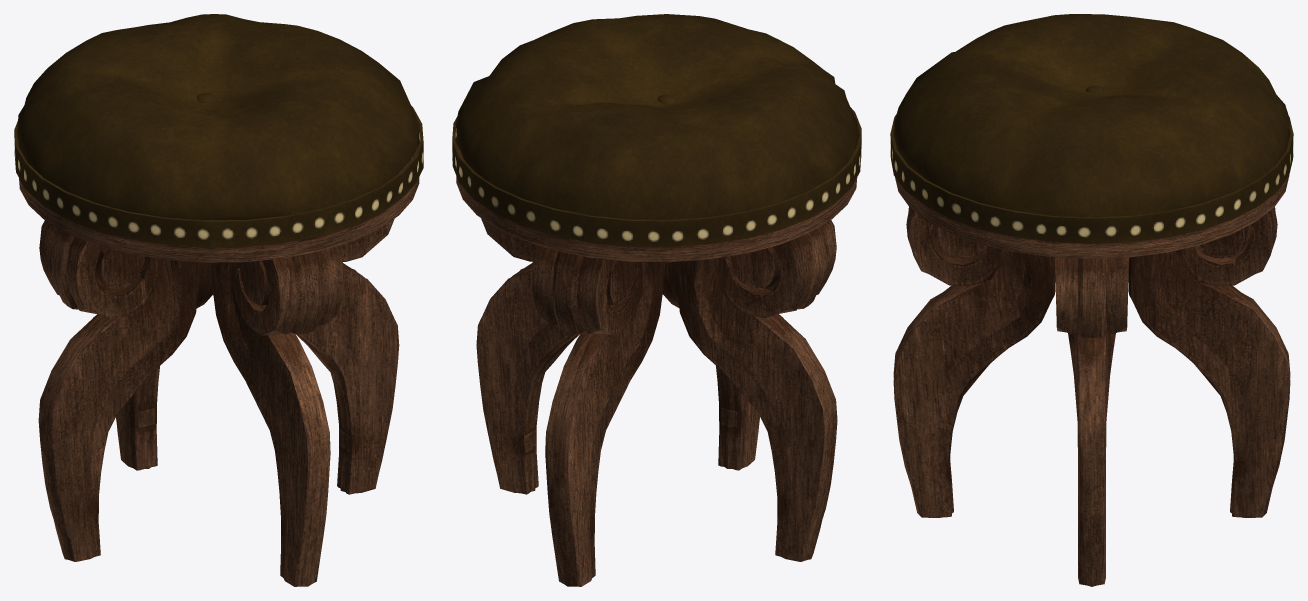
Rendered from obj_free_antique_footstool_18be8d.glb.
The picture shows the model from 3 angles, left to right: view 1: azimuth 30°, elevation 25°; view 2: azimuth 150°, elevation 25°; view 3: azimuth 270°, elevation 25°; orthographic projection.
Visible parts, largest first — view 1: obj_free_antique_footstool_18be8d; view 2: obj_free_antique_footstool_18be8d; view 3: obj_free_antique_footstool_18be8d.
Boxes of the visible parts, <box> form: obj_free_antique_footstool_18be8d: <box>14,14,423,586</box>; obj_free_antique_footstool_18be8d: <box>452,14,861,586</box>; obj_free_antique_footstool_18be8d: <box>890,14,1293,586</box>.
Bounding box in the file's own units: 0.3451 × 0.42 × 0.3451.
Materials: 1 (1 with a texture image).
